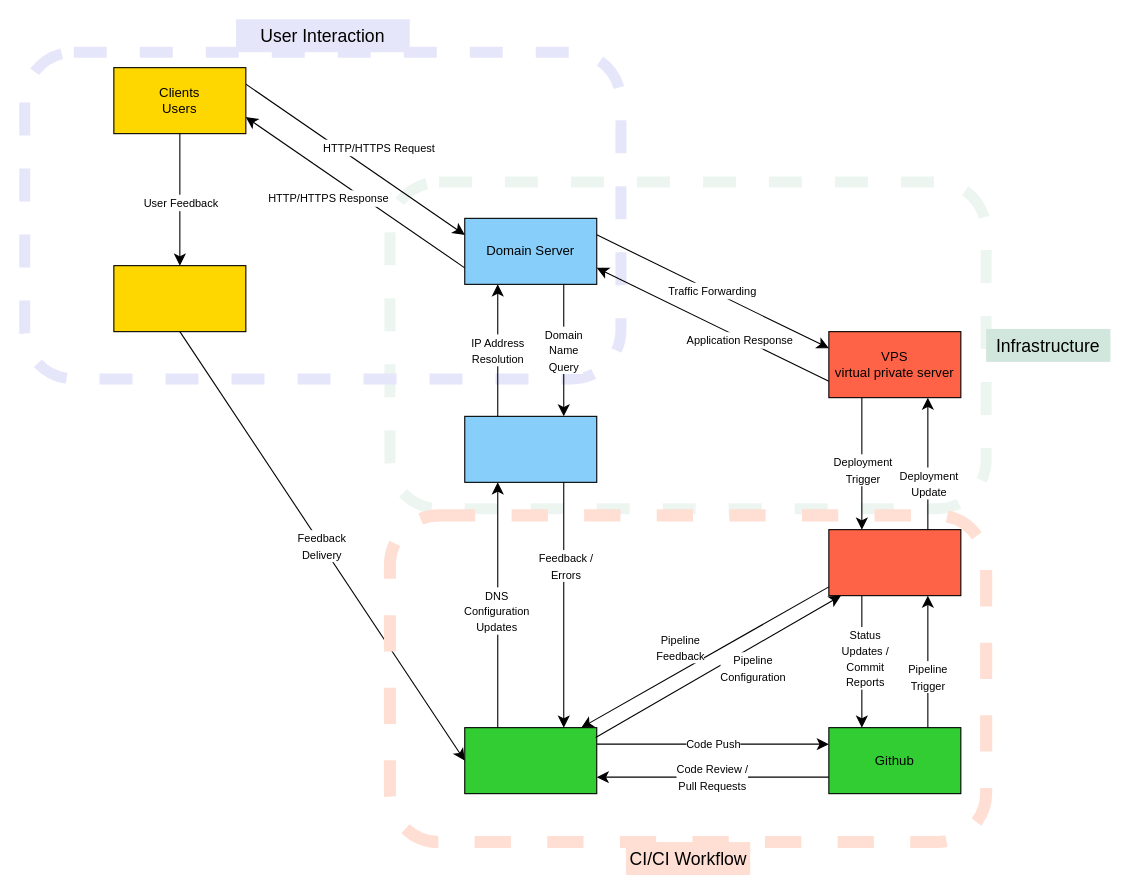
Image size: 1129x893. Some labels were removed from this diagram. The centre of each missing label's shape, as x and y in pixels:
"CI/CD" goes at (x=894, y=562).
"Developer" goes at (x=530, y=760).
"DNS Routing" goes at (x=530, y=448).
"Feedback" goes at (x=179, y=298).
